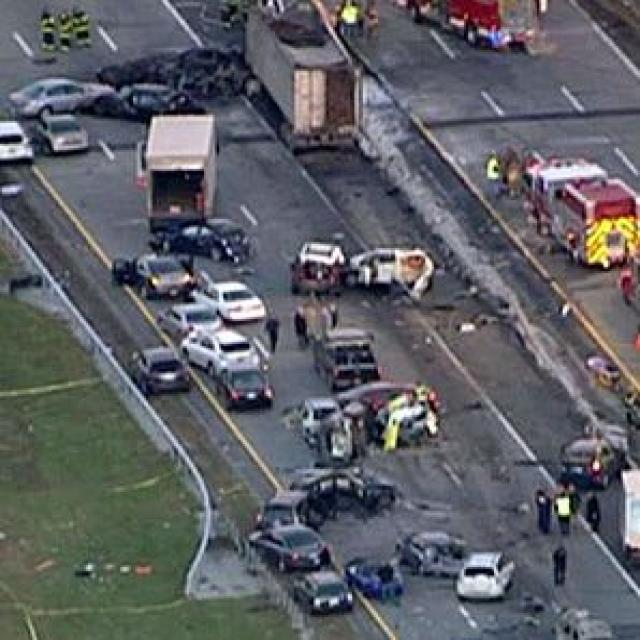traffic_incident: (258, 217, 530, 625)
